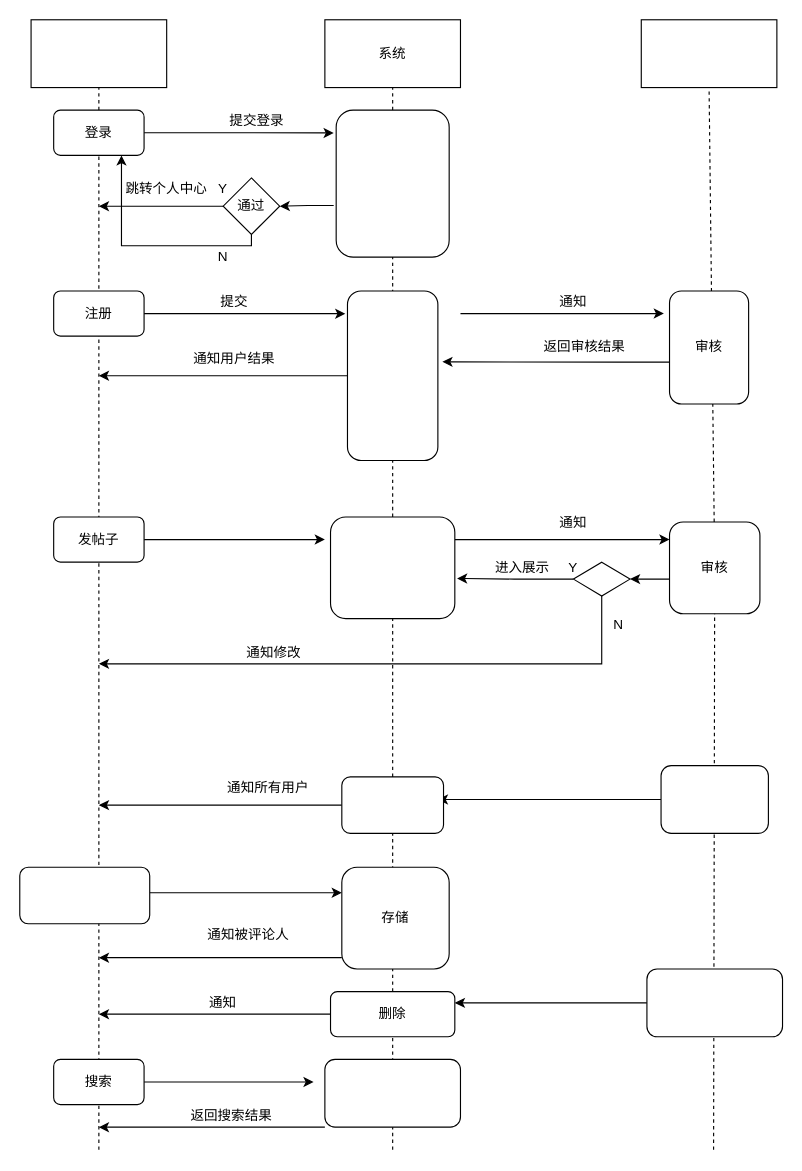
This 802x1171 diagram has some shape labels left out. Here are the shapes that lost their labels. From the top down, the centre of each, then its label:
At (x=98, y=53): "用户".
At (x=708, y=53): "管理员".
At (x=392, y=183): "验证".
At (x=714, y=798): "发公告".
At (x=84, y=895): "发评论/私信（选做）".
At (x=714, y=1002): "删帖子/评论".
